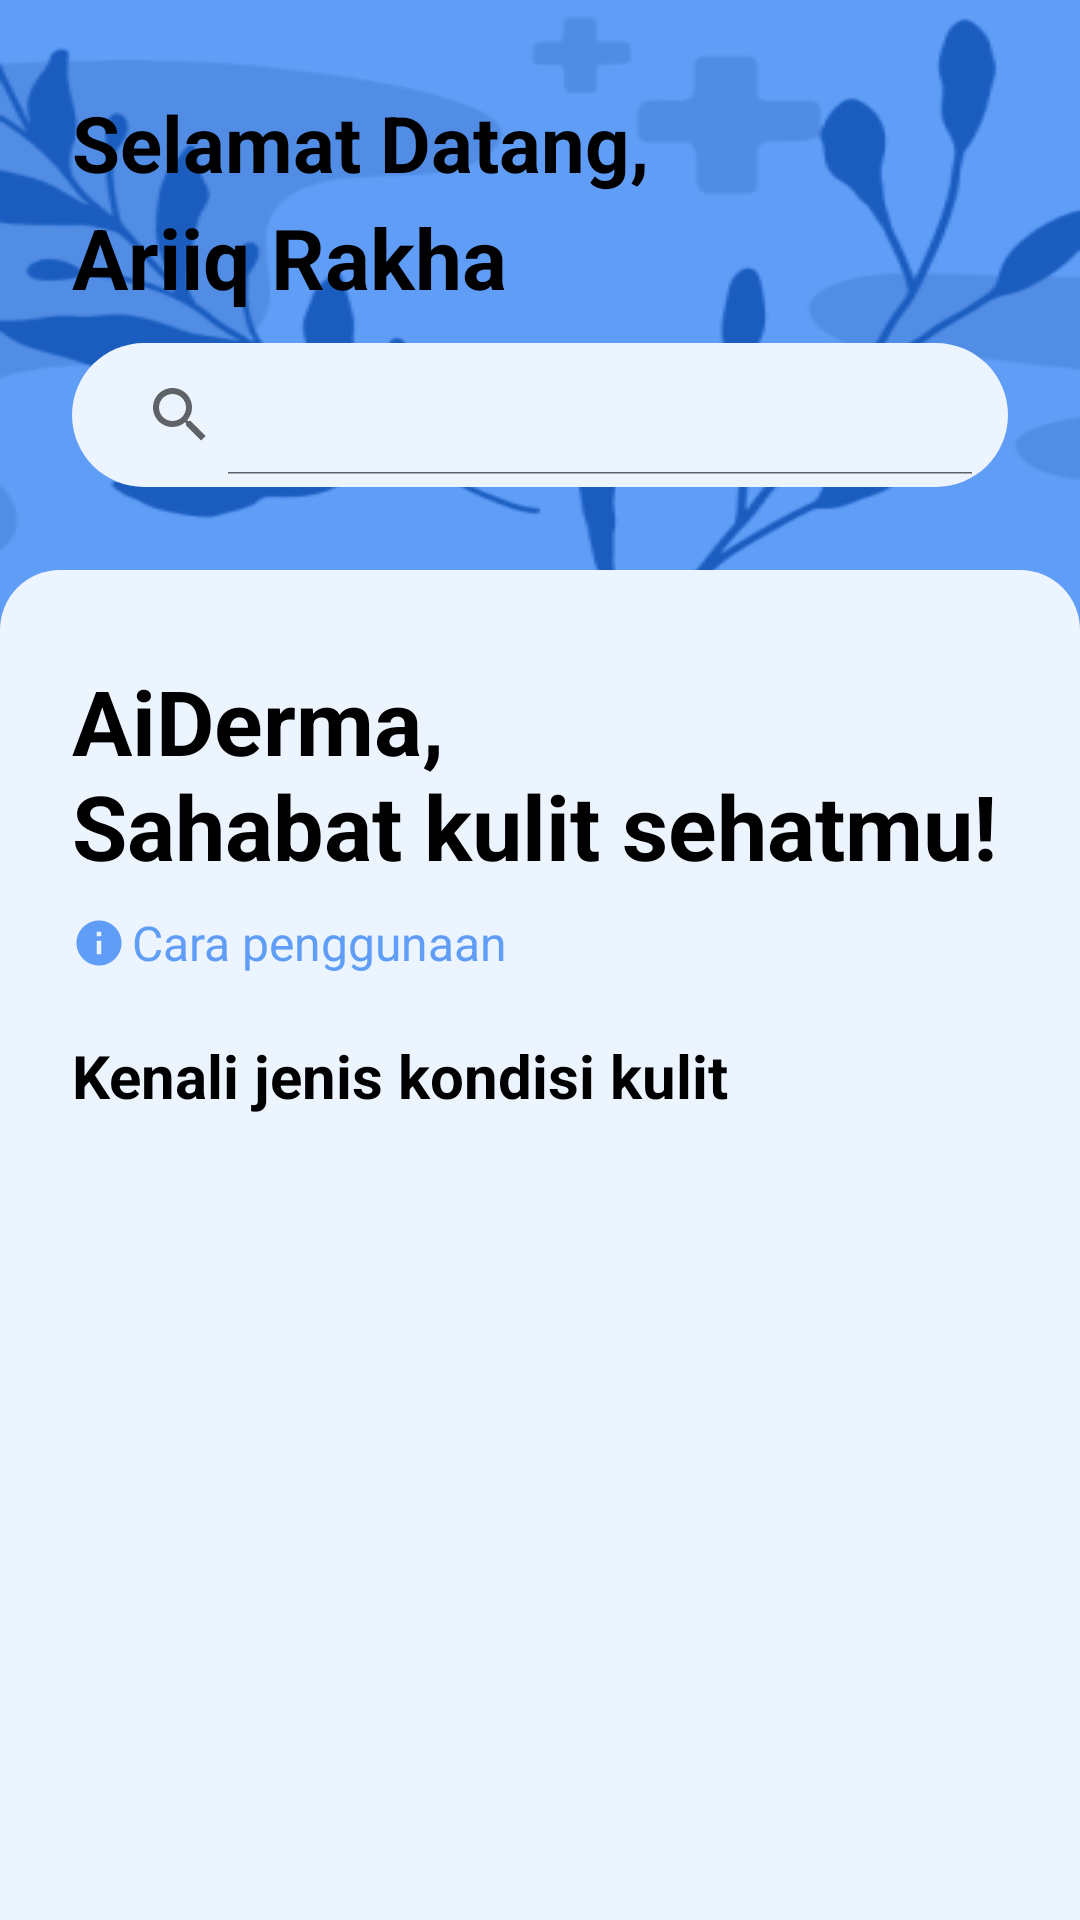

Screen size 1080px×1920px. Icon name, then its box in pixels as (x1, y1, x2, y2):
info: (76, 920, 122, 966)
